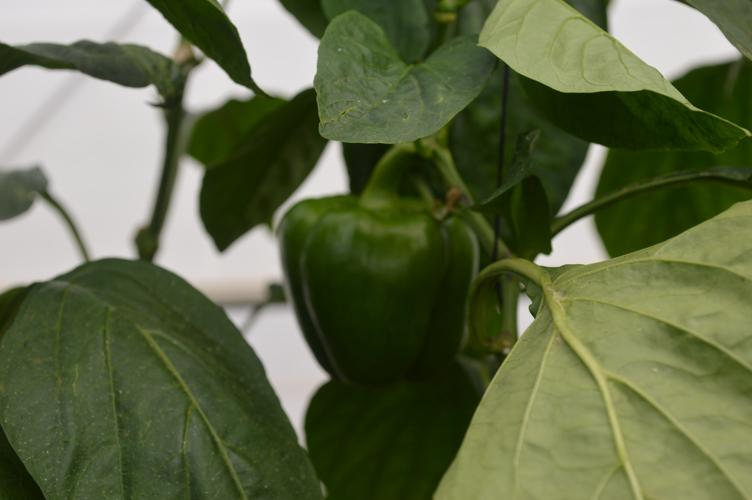BellPepper: (275, 197, 482, 378)
